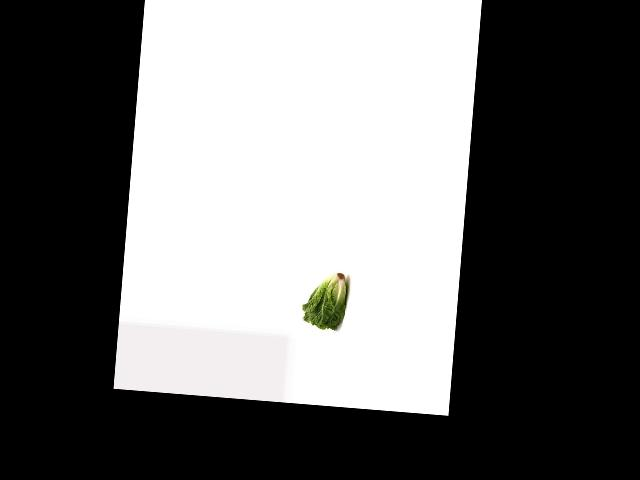lettuce: (300, 267, 350, 331)
